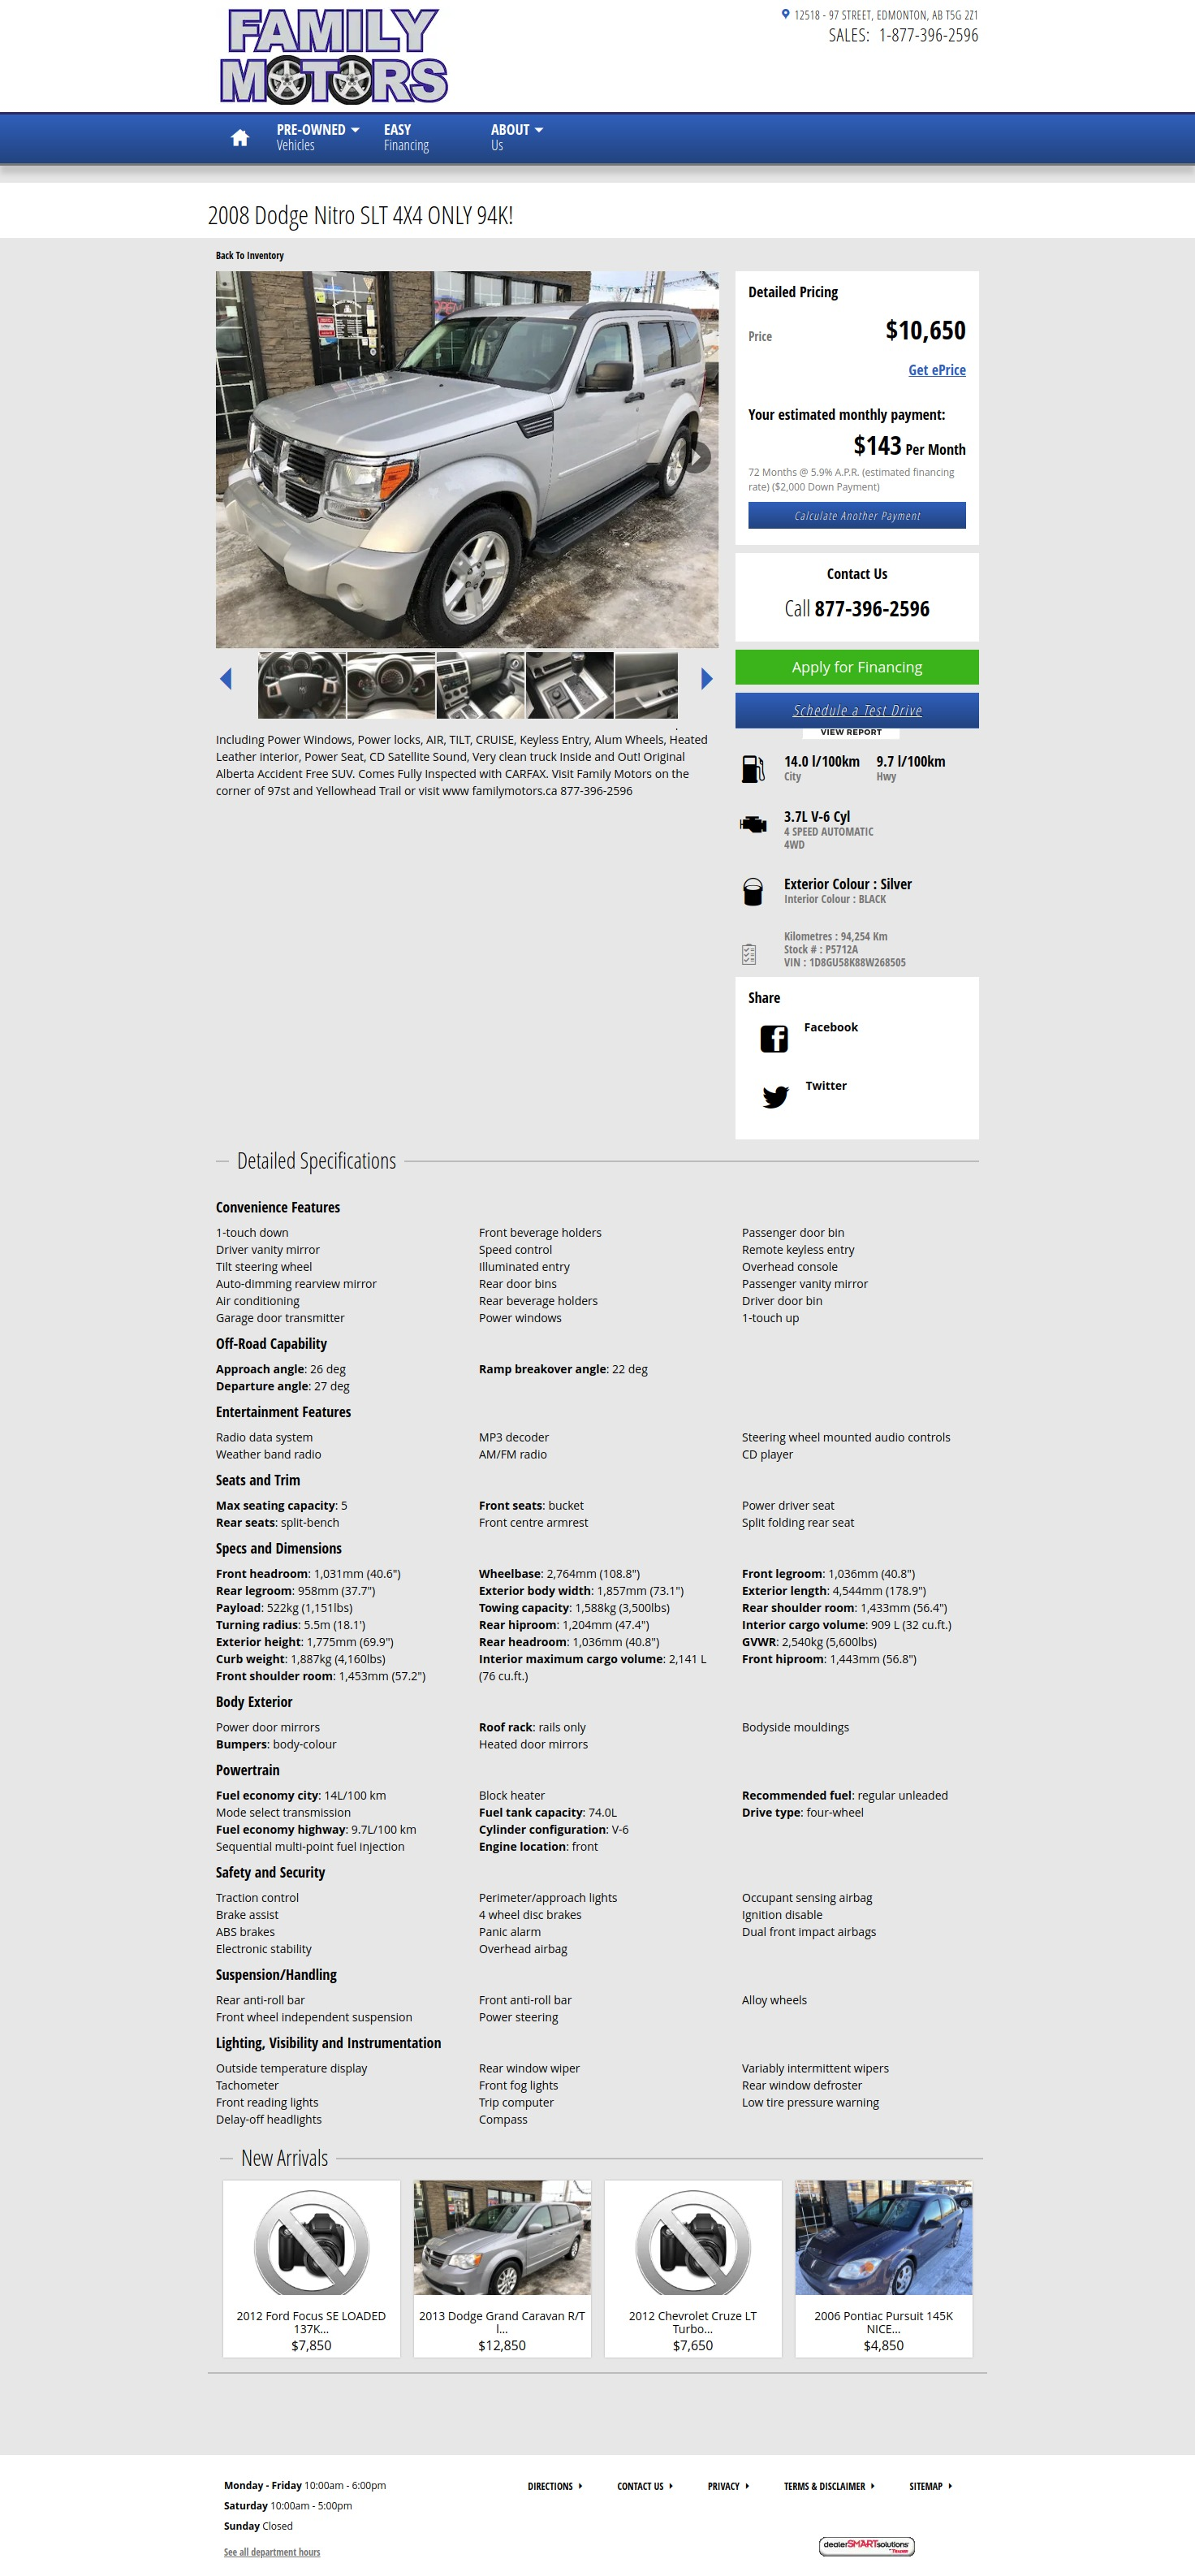car: (703, 667, 714, 693)
